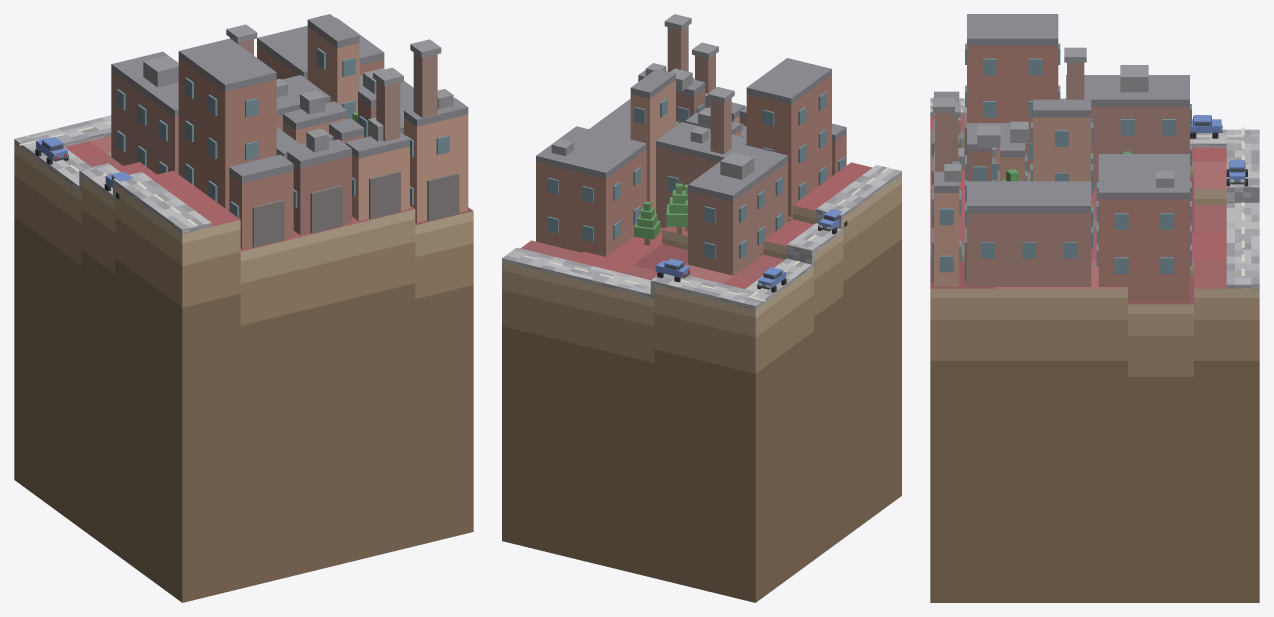
File: block_25_permeable_15.glb
3 views of the same model, side by side, from view 1: azimuth 30°, elevation 25°; view 2: azimuth 150°, elevation 25°; view 3: azimuth 270°, elevation 25° (orthographic). The views are drawn at different scales.
Visible parts, largest first — view 1: Patch_UpperRight_b25_PP, Factories_UpperRight_b25_PP, Roads_UpperRight_b25_PP, RCar_15_PP; view 2: Patch_UpperRight_b25_PP, Factories_UpperRight_b25_PP, Roads_UpperRight_b25_PP, FTree_2_PP, FTree_0_PP, RCar_7_PP; view 3: Patch_UpperRight_b25_PP, Factories_UpperRight_b25_PP, Roads_UpperRight_b25_PP, RCar_15_PP, RCar_7_PP.
Boxes of the visible parts, x1,y1,x2,y2 form: Patch_UpperRight_b25_PP: (14, 136, 473, 602); Factories_UpperRight_b25_PP: (111, 14, 468, 249); Roads_UpperRight_b25_PP: (14, 115, 211, 233); RCar_15_PP: (35, 137, 68, 164); Patch_UpperRight_b25_PP: (502, 162, 901, 602); Factories_UpperRight_b25_PP: (536, 14, 846, 275); Roads_UpperRight_b25_PP: (502, 165, 901, 309); FTree_2_PP: (666, 183, 687, 234); FTree_0_PP: (634, 201, 660, 245); RCar_7_PP: (655, 258, 690, 282); Patch_UpperRight_b25_PP: (930, 116, 1259, 602); Factories_UpperRight_b25_PP: (931, 14, 1191, 302); Roads_UpperRight_b25_PP: (930, 98, 1259, 288); RCar_15_PP: (1190, 115, 1222, 138); RCar_7_PP: (1226, 160, 1247, 186).
Bounding box in the file's own units: 9.6 × 15.31 × 9.5.
